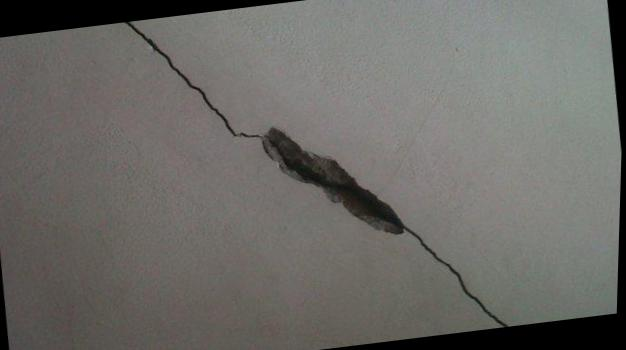crack: (122, 21, 511, 327)
damage: (264, 127, 407, 234)
